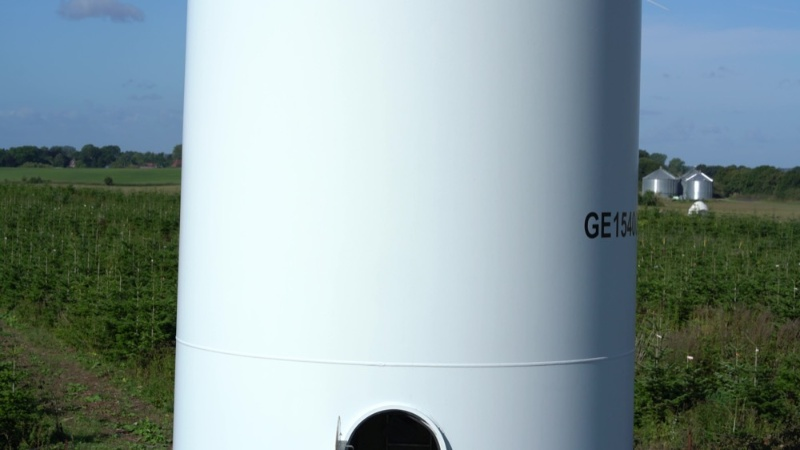weldseam: (176, 332, 635, 374)
